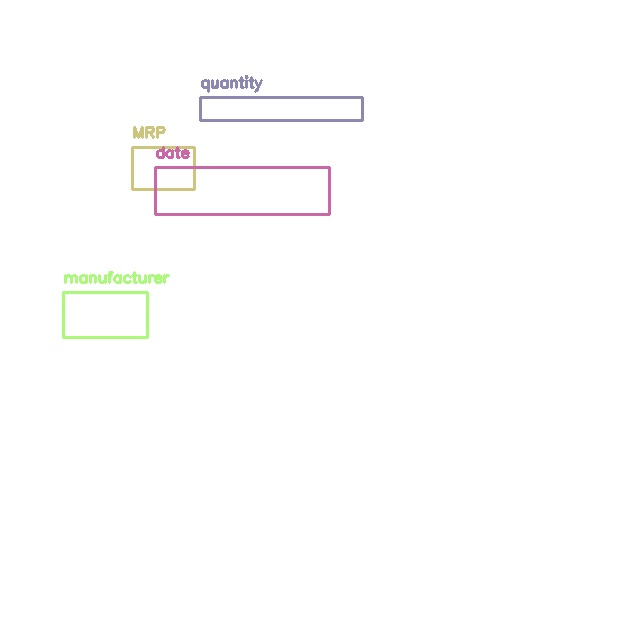MRP: (132, 147, 194, 189)
date: (155, 167, 329, 214)
manufacturer: (63, 292, 147, 337)
quantity: (200, 97, 362, 120)
